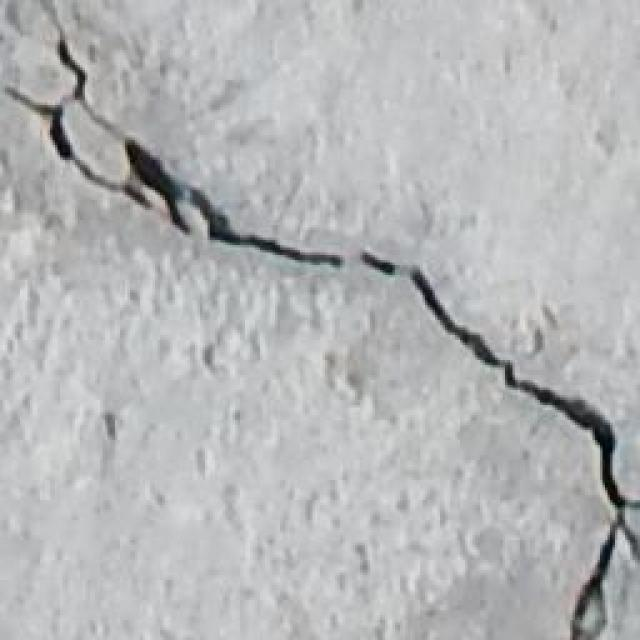concrete-crack: (0, 33, 634, 640)
